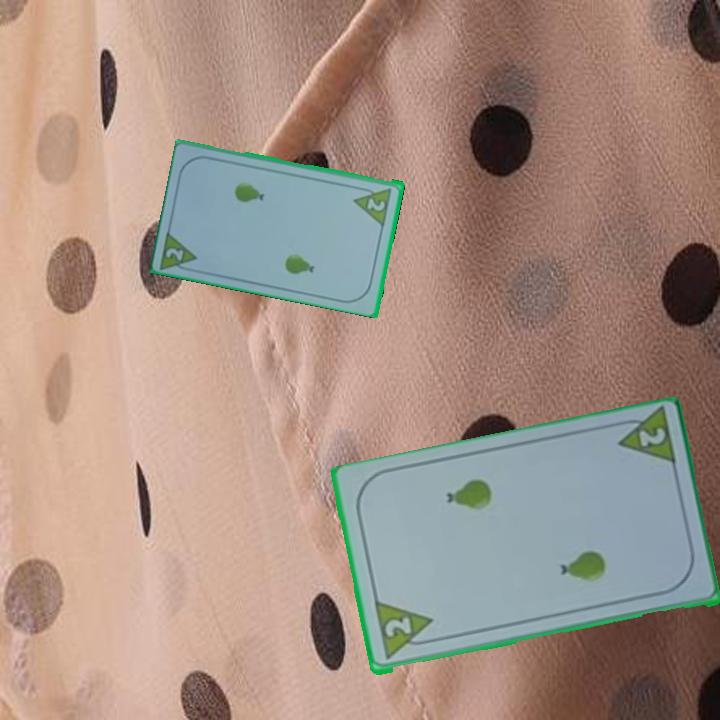2p: (371, 599, 439, 663), (158, 226, 201, 275), (351, 182, 395, 227), (634, 424, 668, 451)
